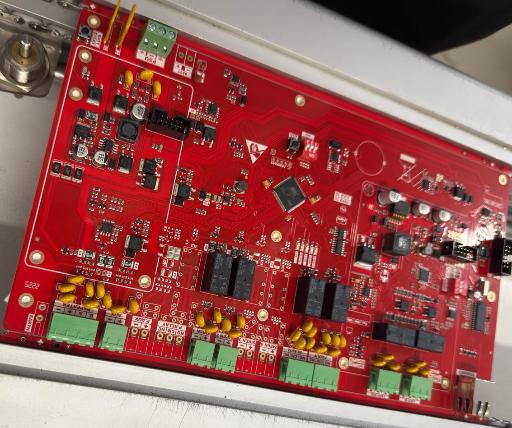var: (116, 3, 136, 49), (104, 1, 122, 45), (287, 329, 301, 343), (291, 337, 306, 350), (299, 320, 313, 333), (59, 284, 76, 294), (304, 326, 317, 339), (140, 70, 154, 82), (128, 299, 139, 314), (68, 276, 85, 285), (59, 294, 76, 303), (96, 283, 105, 299), (83, 300, 99, 309), (110, 306, 126, 315), (153, 80, 161, 98), (304, 337, 315, 350), (321, 332, 331, 346), (221, 318, 231, 332), (377, 354, 394, 362), (125, 69, 133, 86), (85, 282, 94, 297), (236, 314, 245, 329), (103, 294, 112, 309), (196, 313, 205, 327), (213, 310, 222, 324), (204, 325, 218, 334), (227, 330, 241, 339), (312, 346, 327, 354), (325, 349, 340, 357), (371, 359, 386, 367), (331, 334, 340, 347), (386, 363, 400, 371), (403, 365, 417, 373), (410, 361, 425, 368), (419, 369, 431, 377), (339, 336, 346, 348)
